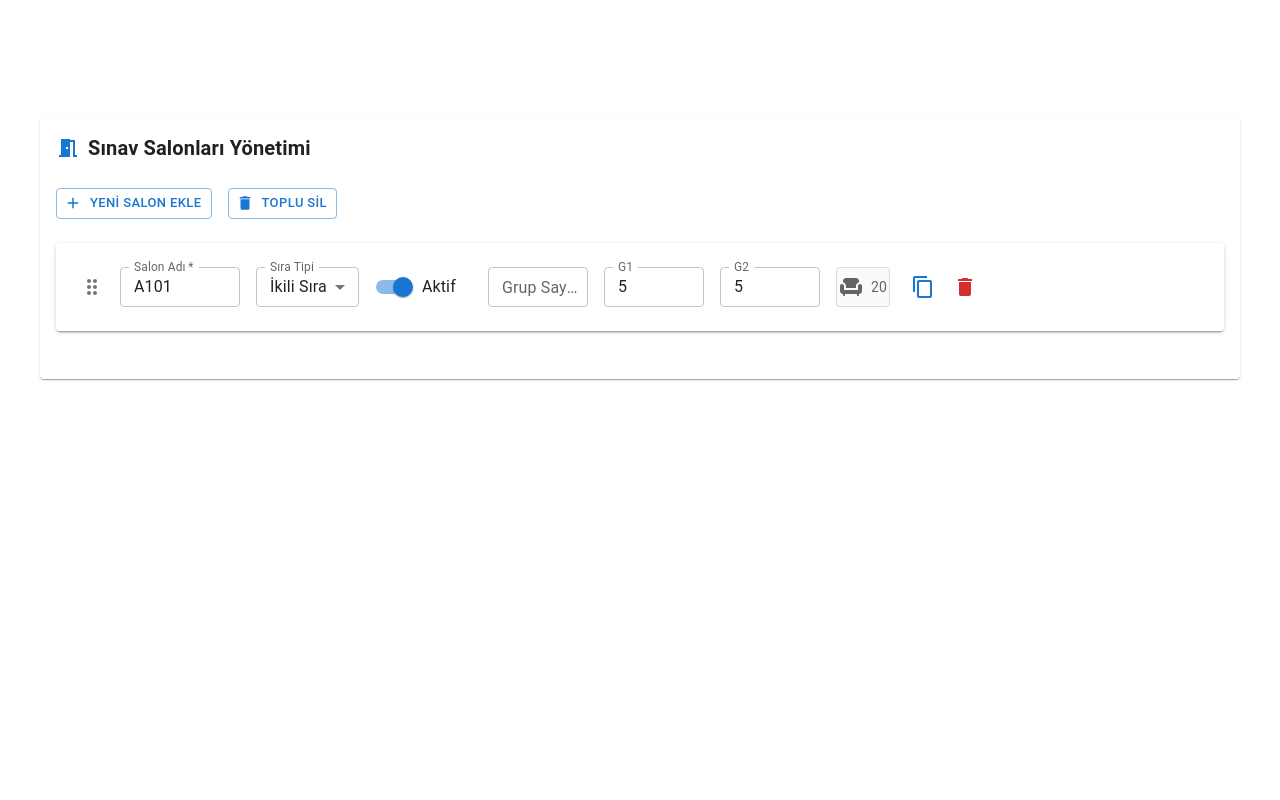
it: SalonFormu Component › should handle salon deletion
Click the button titled "Salonu Sil": (965, 287) [948,270,982,304]
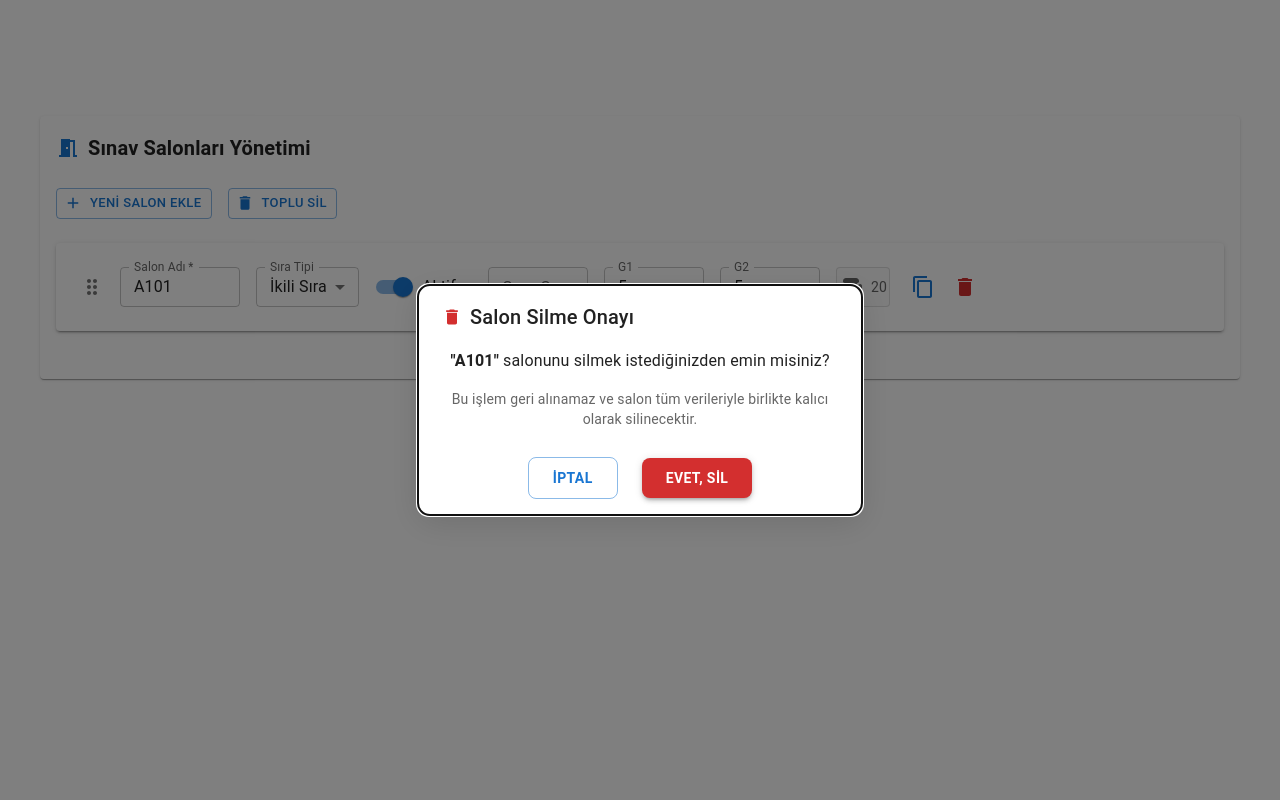
Check: the heading "Salon Silme Onayı" is shown, box [442,305,634,329]
